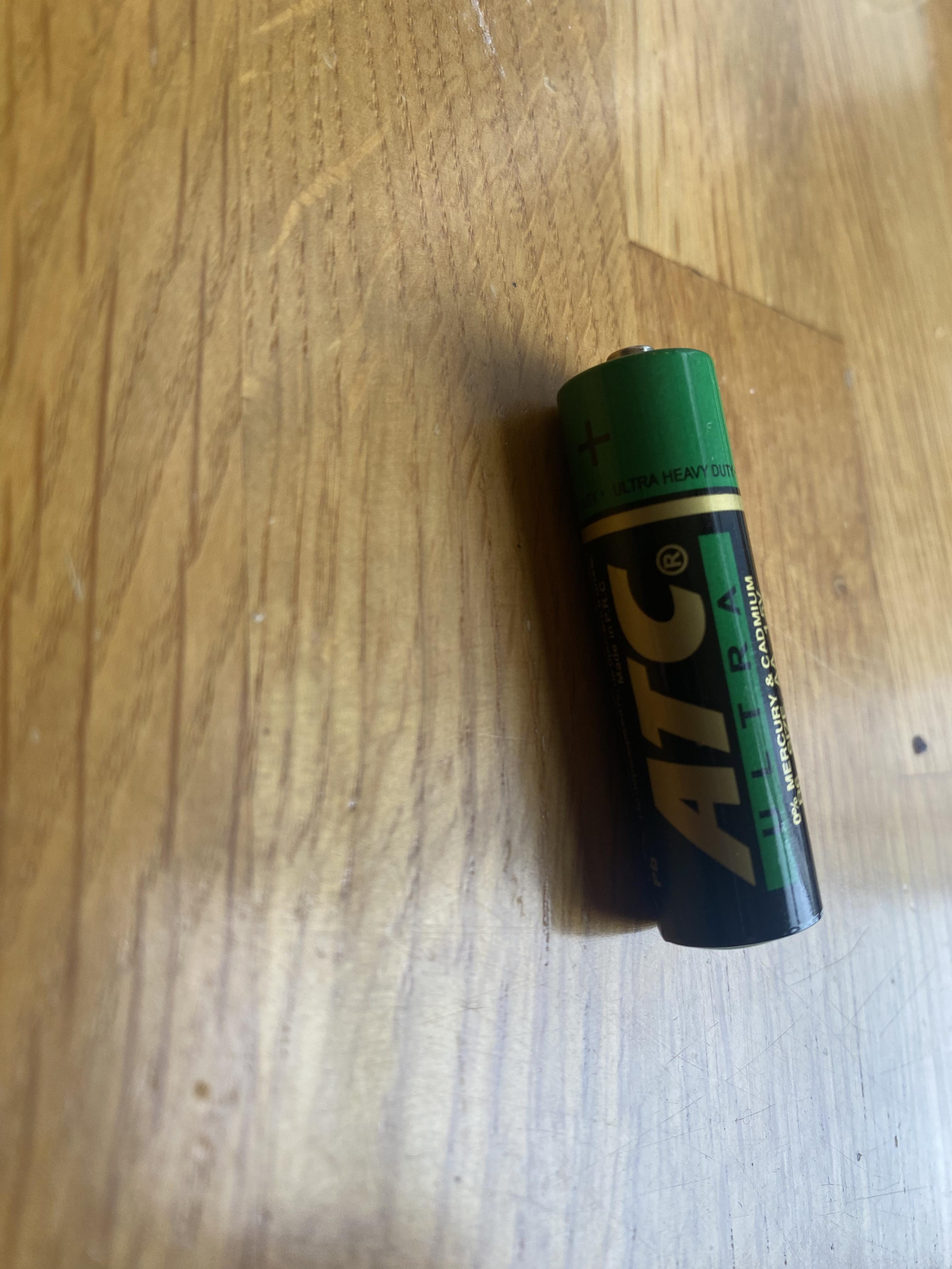AA: (554, 342, 824, 949)
